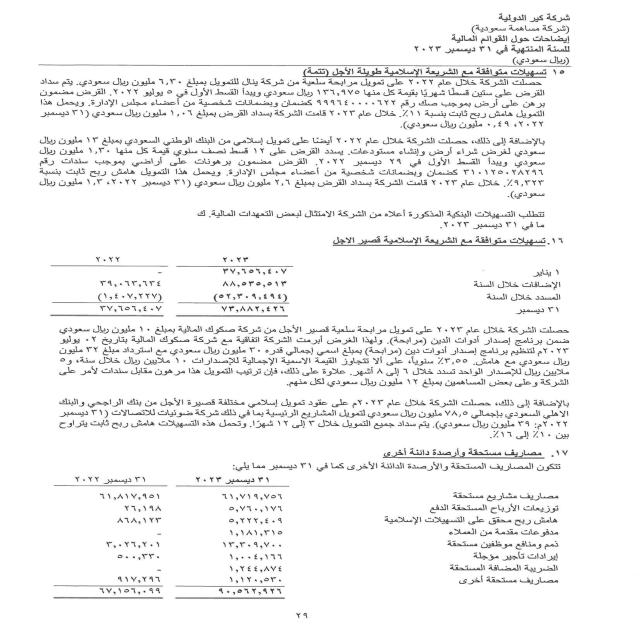notes: (438, 33, 572, 45)
table: (51, 472, 306, 606), (32, 245, 314, 320)
